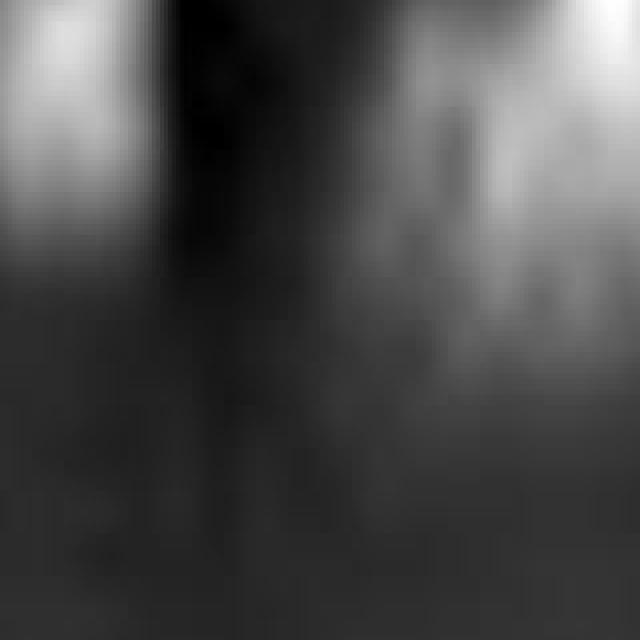person: (389, 1, 640, 508), (1, 1, 173, 310)
